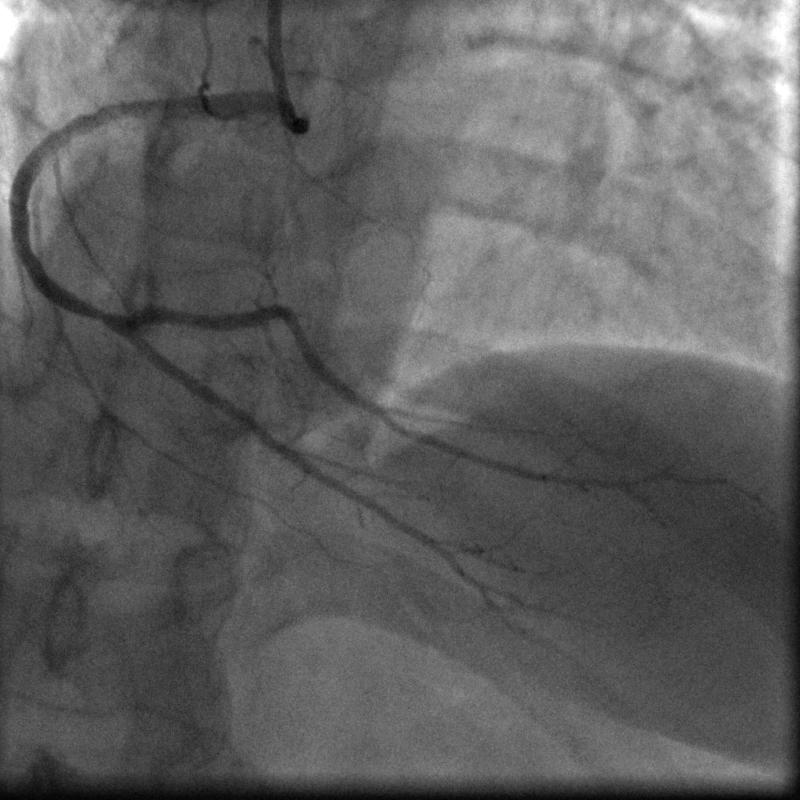Stenosis: (86, 296, 115, 335)
